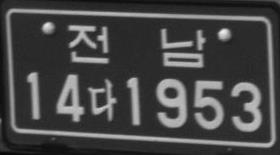1: (20, 71, 49, 120), (120, 76, 148, 125)
3: (230, 81, 262, 133)
4: (55, 73, 84, 122)
5: (193, 78, 224, 130)
9: (155, 77, 188, 128)
다: (87, 78, 117, 121)
전남_D: (67, 24, 205, 67)
